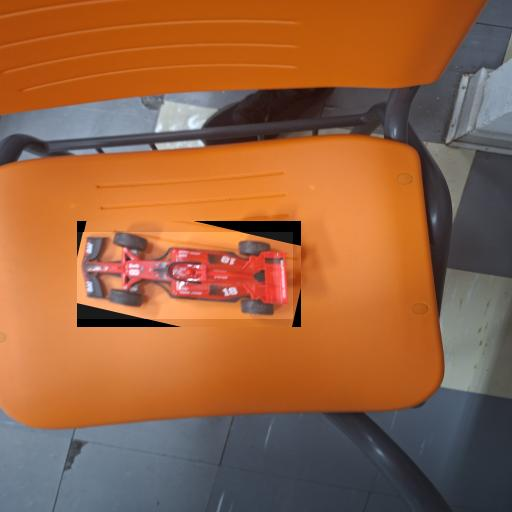carro: (77, 232, 293, 319)
